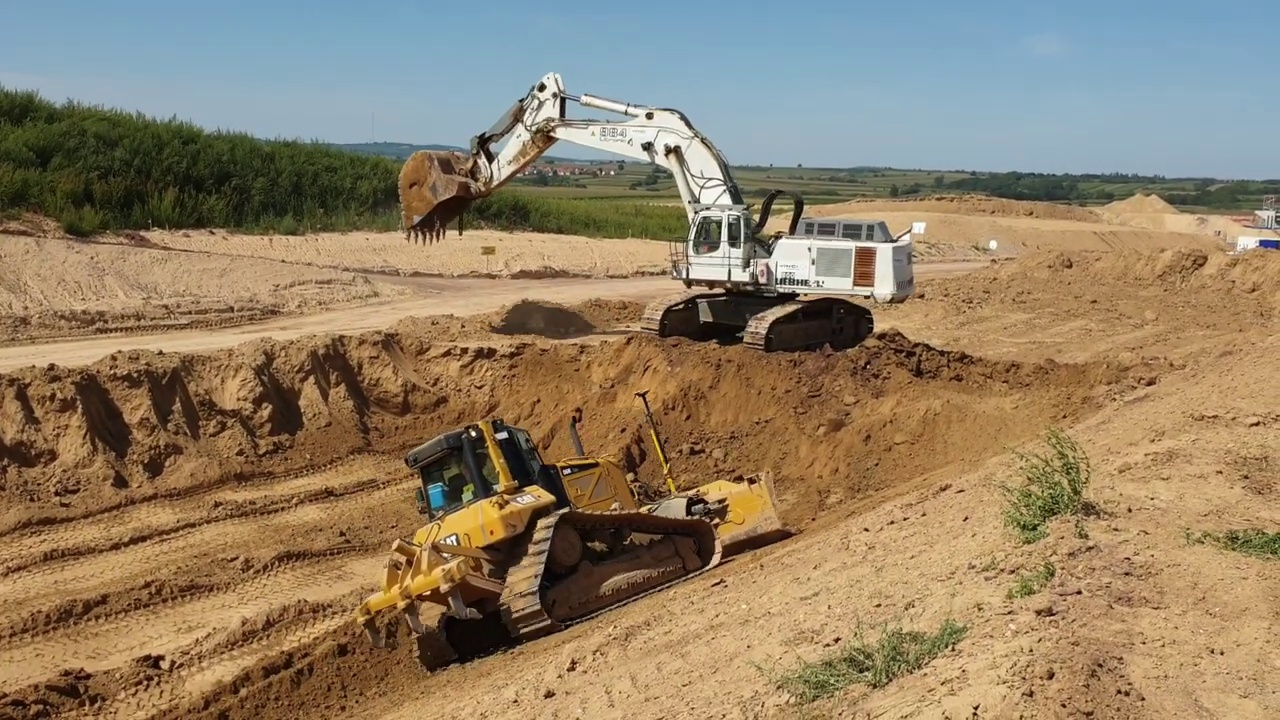bulldozer: (353, 383, 804, 674)
excavator: (392, 65, 925, 355)
